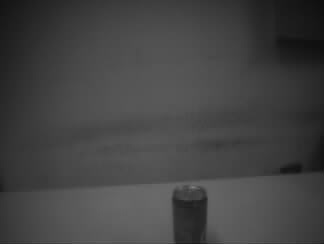Tin can: (172, 184, 209, 244)
